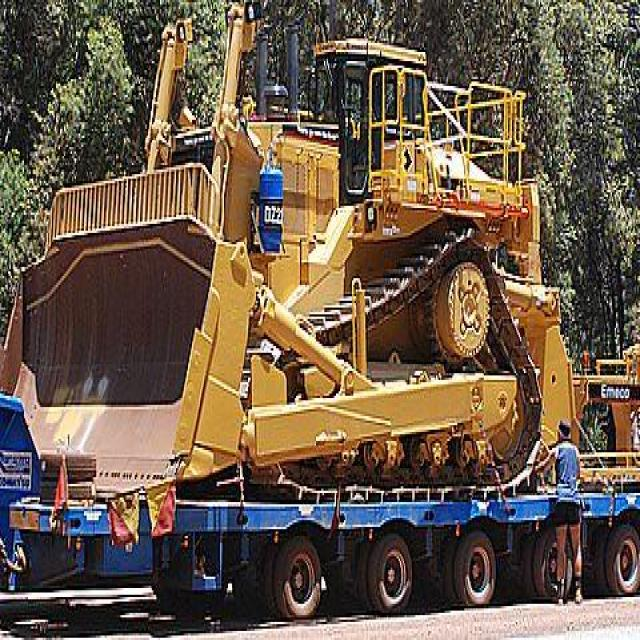Bulldozer: (8, 9, 591, 527)
